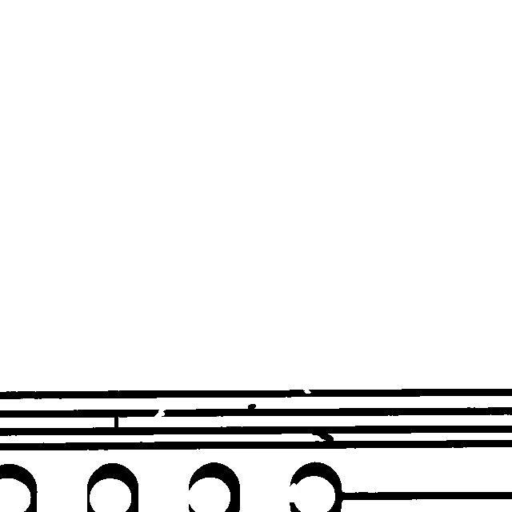mousebite: (294, 378, 318, 401)
open: (146, 395, 178, 426), (278, 475, 305, 510)
short: (302, 420, 341, 450), (106, 406, 126, 438)
spur: (240, 396, 263, 421)
